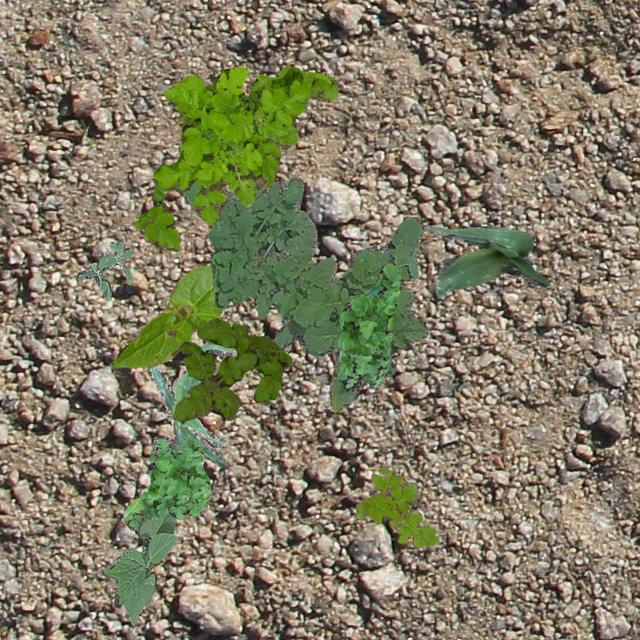crop: (112, 264, 222, 366), (150, 342, 236, 467), (426, 225, 548, 298), (105, 512, 177, 624), (328, 368, 342, 412)
weed: (182, 176, 428, 402), (134, 66, 338, 250), (172, 318, 290, 420), (336, 262, 400, 390), (123, 436, 210, 528), (356, 466, 438, 546), (76, 238, 132, 300)
